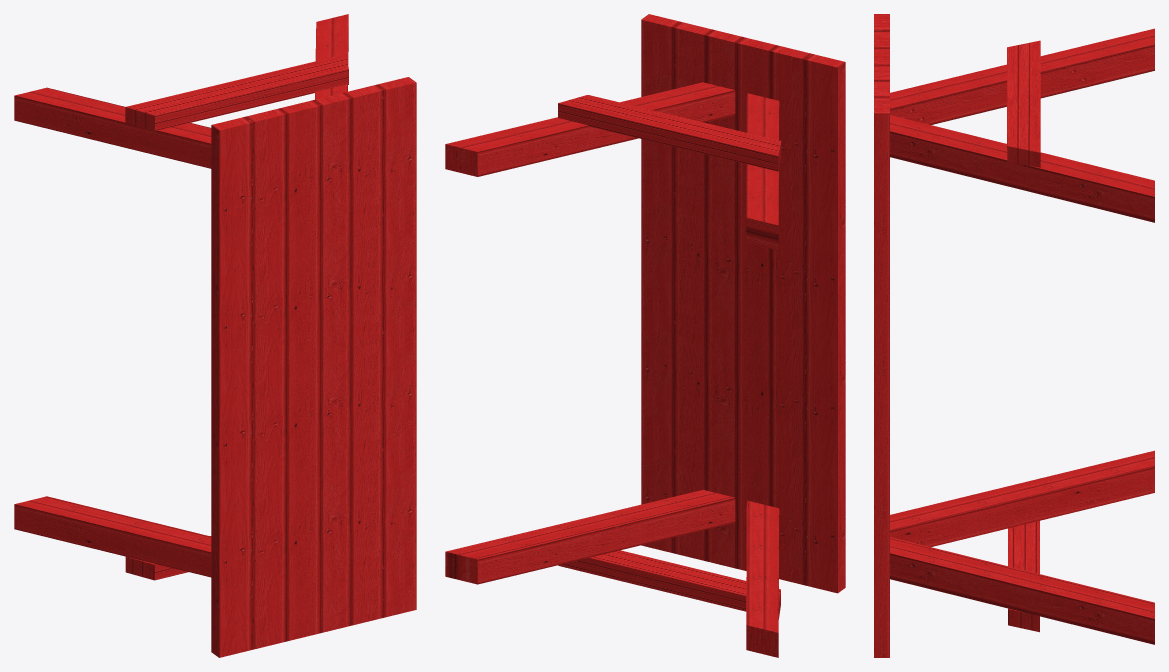
Rendered from parkTable01.obj.
3 renders of one model, left to right at view 1: azimuth 30°, elevation 25°; view 2: azimuth 150°, elevation 25°; view 3: azimuth 270°, elevation 25°, orthographic. The views are drawn at different scales.
Visible parts, largest first — view 1: Cube_Cube.001, Cube.001_Cube.002, Cube.002_Cube.003; view 2: Cube_Cube.001, Cube.001_Cube.002, Cube.002_Cube.003; view 3: Cube.001_Cube.002, Cube_Cube.001, Cube.002_Cube.003.
Boxes of the visible parts, x1,y1,x2,y2 form: Cube_Cube.001: [211, 77, 416, 657]; Cube.001_Cube.002: [14, 14, 348, 577]; Cube.002_Cube.003: [125, 54, 348, 580]; Cube_Cube.001: [641, 14, 845, 593]; Cube.001_Cube.002: [445, 82, 779, 657]; Cube.002_Cube.003: [558, 95, 781, 619]; Cube.001_Cube.002: [890, 28, 1154, 644]; Cube_Cube.001: [874, 14, 889, 657]; Cube.002_Cube.003: [1007, 40, 1040, 632].
Size of the model in its own units: 770 by 1161 by 543.
